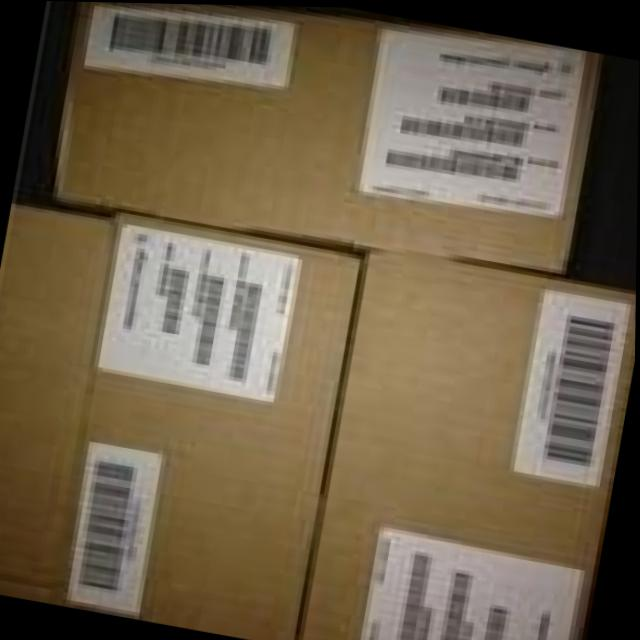box: (55, 1, 607, 272), (305, 243, 637, 640), (59, 212, 361, 640), (0, 204, 115, 601)
